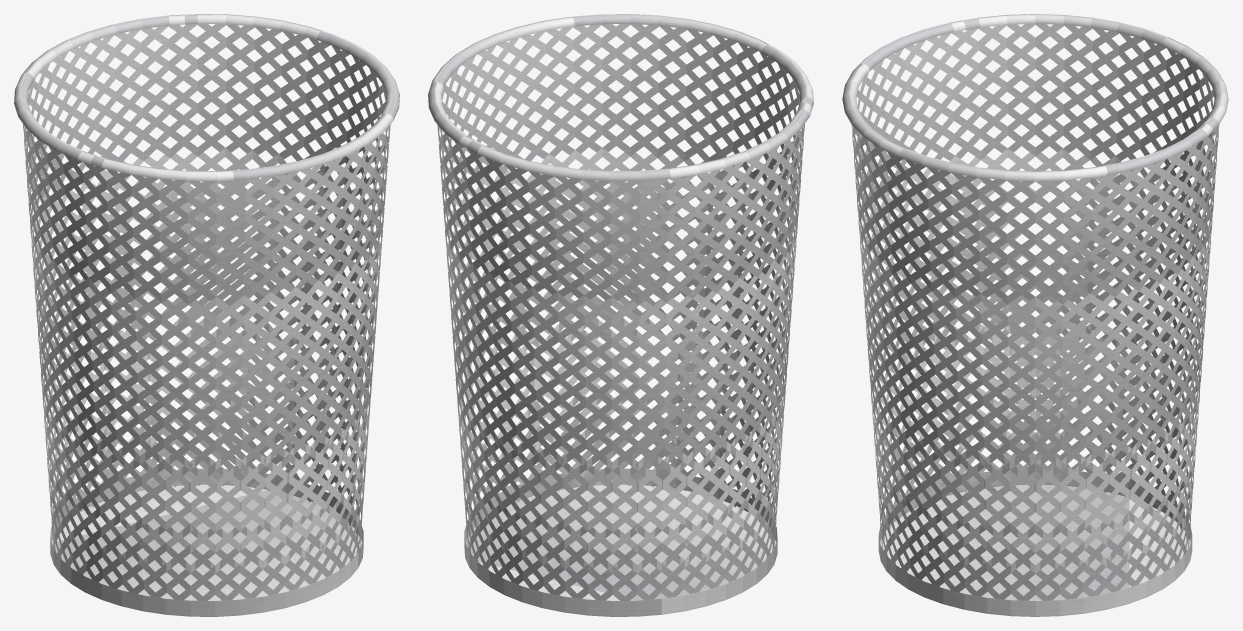
The picture shows the model from 3 angles, left to right: view 1: azimuth 30°, elevation 25°; view 2: azimuth 150°, elevation 25°; view 3: azimuth 270°, elevation 25°; orthographic projection.
Visible parts, largest first — view 1: mesh84.002_mesh84-geometry, mesh83.002_mesh83-geometry, mesh19.004_mesh19-geometry, mesh20.004_mesh20-geometry, mesh16.004_mesh16-geometry, mesh14.004_mesh14-geometry, mesh11.004_mesh11-geometry, mesh15.004_mesh15-geometry, mesh67.004_mesh67-geometry, mesh72.004_mesh72-geometry, mesh18.004_mesh18-geometry, mesh70.004_mesh70-geometry (+70 smaller); view 2: mesh84.002_mesh84-geometry, mesh83.002_mesh83-geometry, mesh60.004_mesh60-geometry, mesh61.004_mesh61-geometry, mesh55.004_mesh55-geometry, mesh57.004_mesh57-geometry, mesh56.004_mesh56-geometry, mesh54.004_mesh54-geometry, mesh64.004_mesh64-geometry, mesh59.004_mesh59-geometry, mesh52.004_mesh52-geometry, mesh35.004_mesh35-geometry (+70 smaller); view 3: mesh84.002_mesh84-geometry, mesh83.002_mesh83-geometry, mesh49.004_mesh49-geometry, mesh8.004_mesh8-geometry, mesh9.004_mesh9-geometry, mesh50.004_mesh50-geometry, mesh81.004_mesh81-geometry, mesh51.004_mesh51-geometry, mesh44.004_mesh44-geometry, mesh82.004_mesh82-geometry, mesh80.004_mesh80-geometry, mesh3.004_mesh3-geometry (+70 smaller).
Part boxes in pixels (x1,y1,x2,y2): mesh84.002_mesh84-geometry: [50, 468, 363, 616]; mesh83.002_mesh83-geometry: [14, 14, 399, 180]; mesh19.004_mesh19-geometry: [28, 52, 332, 576]; mesh20.004_mesh20-geometry: [29, 42, 316, 584]; mesh16.004_mesh16-geometry: [24, 125, 359, 551]; mesh14.004_mesh14-geometry: [31, 35, 298, 590]; mesh11.004_mesh11-geometry: [37, 138, 365, 513]; mesh15.004_mesh15-geometry: [23, 124, 361, 541]; mesh67.004_mesh67-geometry: [50, 127, 388, 527]; mesh72.004_mesh72-geometry: [77, 55, 386, 574]; mesh18.004_mesh18-geometry: [26, 64, 344, 568]; mesh70.004_mesh70-geometry: [57, 84, 389, 557]; mesh84.002_mesh84-geometry: [464, 468, 777, 616]; mesh83.002_mesh83-geometry: [428, 14, 813, 180]; mesh60.004_mesh60-geometry: [495, 52, 799, 576]; mesh61.004_mesh61-geometry: [511, 42, 798, 584]; mesh55.004_mesh55-geometry: [529, 35, 796, 590]; mesh57.004_mesh57-geometry: [468, 125, 803, 551]; mesh56.004_mesh56-geometry: [466, 124, 804, 541]; mesh54.004_mesh54-geometry: [465, 126, 803, 536]; mesh64.004_mesh64-geometry: [596, 24, 792, 600]; mesh59.004_mesh59-geometry: [483, 64, 801, 568]; mesh52.004_mesh52-geometry: [462, 138, 790, 513]; mesh35.004_mesh35-geometry: [448, 26, 671, 597]; mesh84.002_mesh84-geometry: [878, 470, 1192, 616]; mesh83.002_mesh83-geometry: [842, 14, 1228, 181]; mesh49.004_mesh49-geometry: [977, 28, 1209, 596]; mesh8.004_mesh8-geometry: [861, 28, 1093, 596]; mesh9.004_mesh9-geometry: [863, 25, 1075, 599]; mesh50.004_mesh50-geometry: [995, 25, 1207, 599]; mesh81.004_mesh81-geometry: [880, 126, 1218, 538]; mesh51.004_mesh51-geometry: [1019, 24, 1206, 600]; mesh44.004_mesh44-geometry: [891, 73, 1216, 563]; mesh82.004_mesh82-geometry: [881, 125, 1219, 547]; mesh80.004_mesh80-geometry: [878, 129, 1215, 528]; mesh3.004_mesh3-geometry: [854, 73, 1179, 563].
Bounding box in the file's own units: 0.5194 × 0.6786 × 0.5194.
